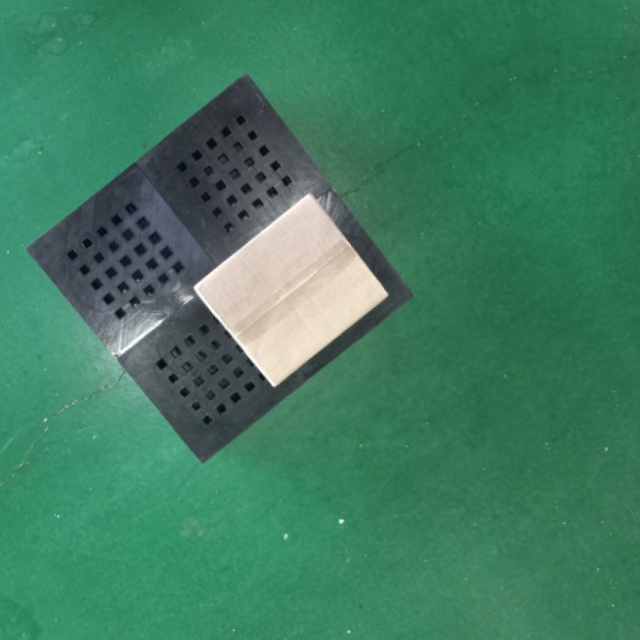box: (192, 190, 391, 392)
pallet: (19, 68, 420, 470)
